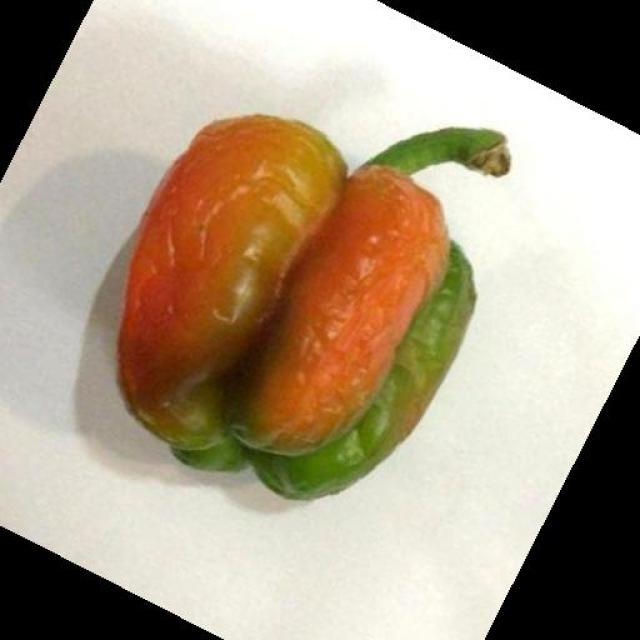Stale_Capsicum: (108, 70, 470, 455)
